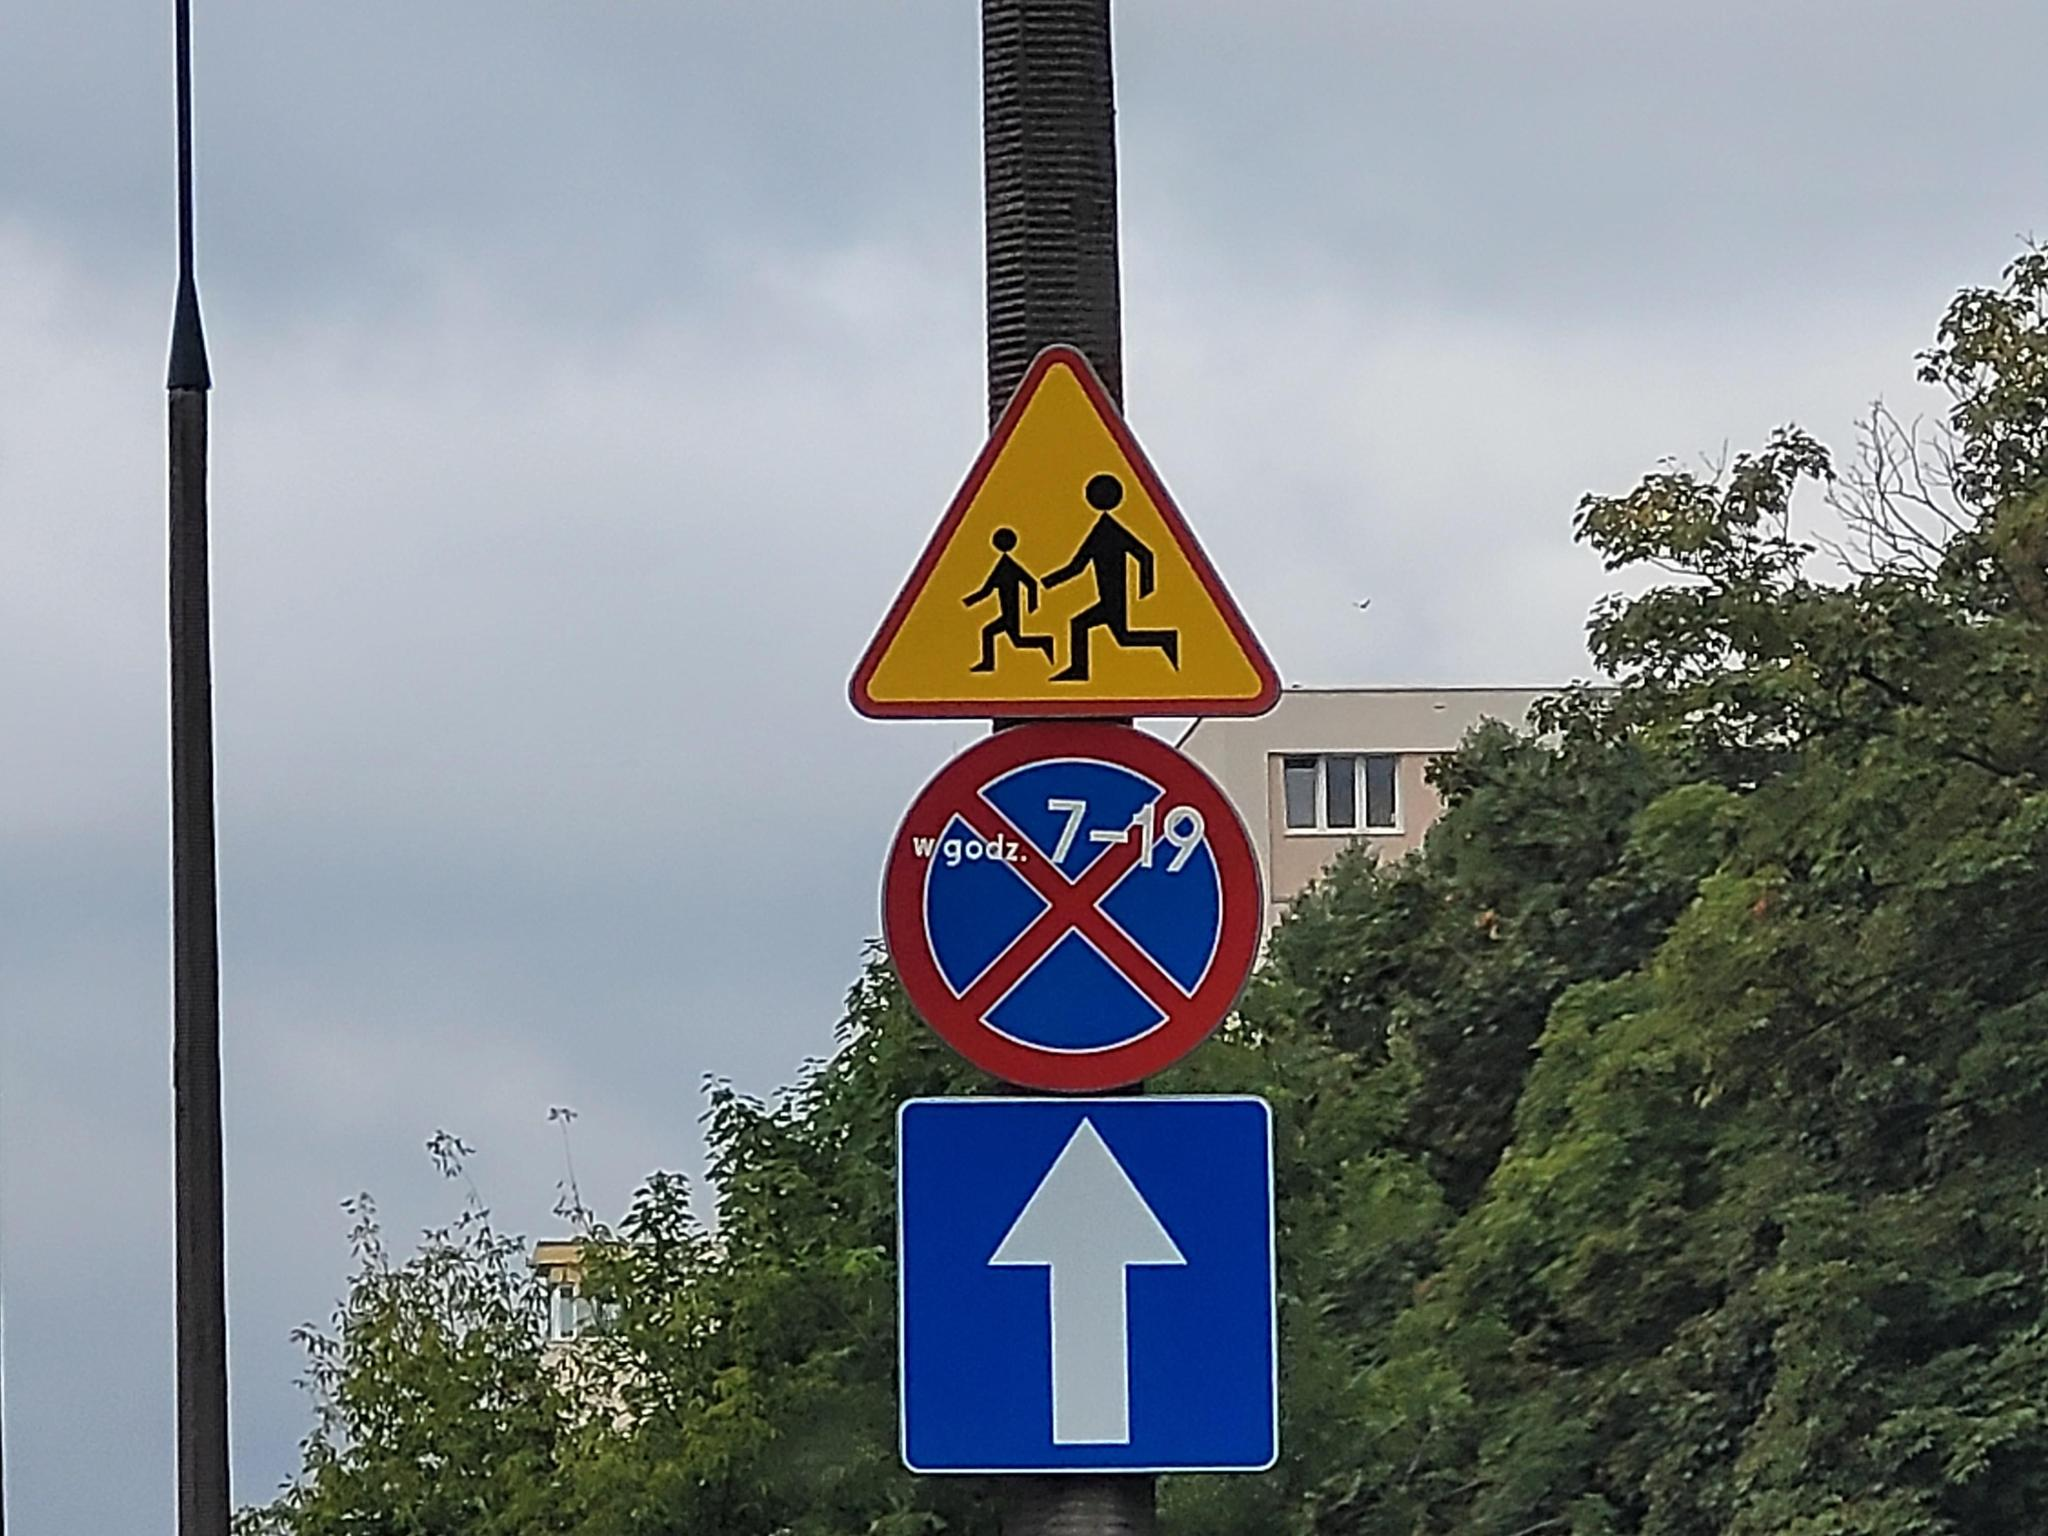information: (903, 1100, 1276, 1468)
prohibitory: (877, 723, 1266, 1092)
warning: (845, 340, 1282, 721)
